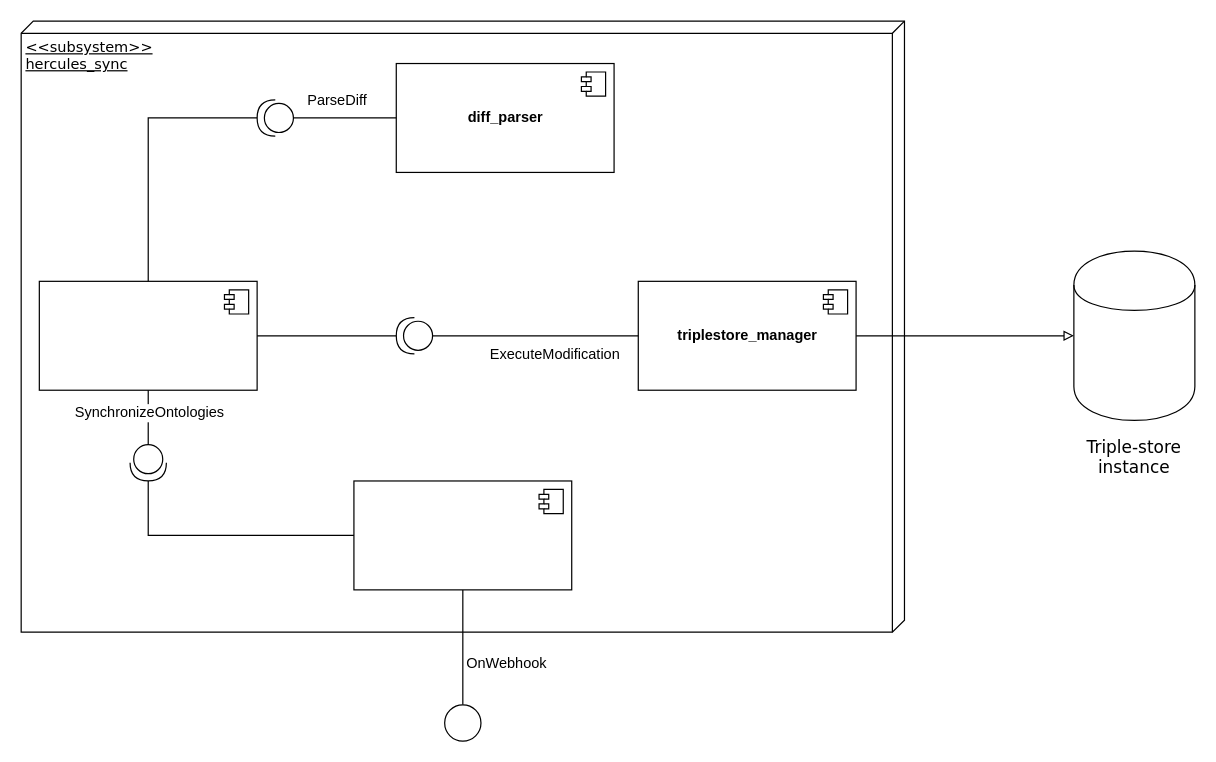
This 1216x762 diagram has some shape labels left out. The centre of each missing label's shape, as x and y in pixels:
"listener" belongs at (x=462, y=535).
"ontology_sinchronizer" belongs at (x=147, y=335).
